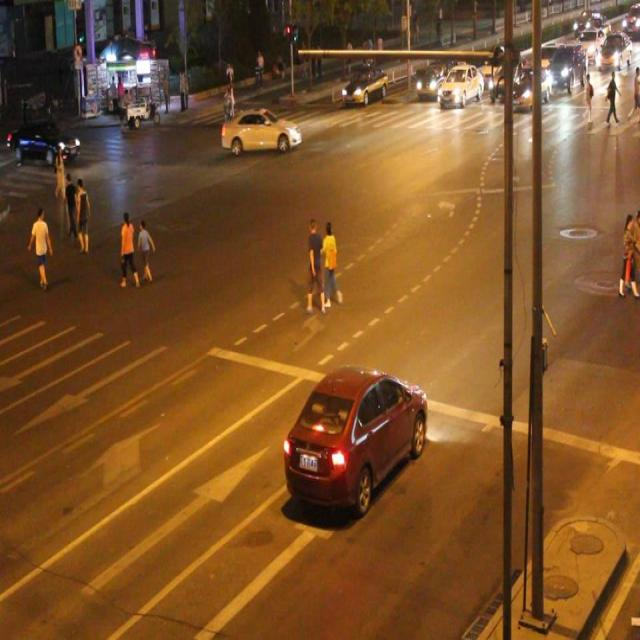car: (279, 362, 425, 514), (222, 107, 301, 161), (1, 120, 80, 166), (341, 66, 388, 110), (434, 64, 480, 105)
